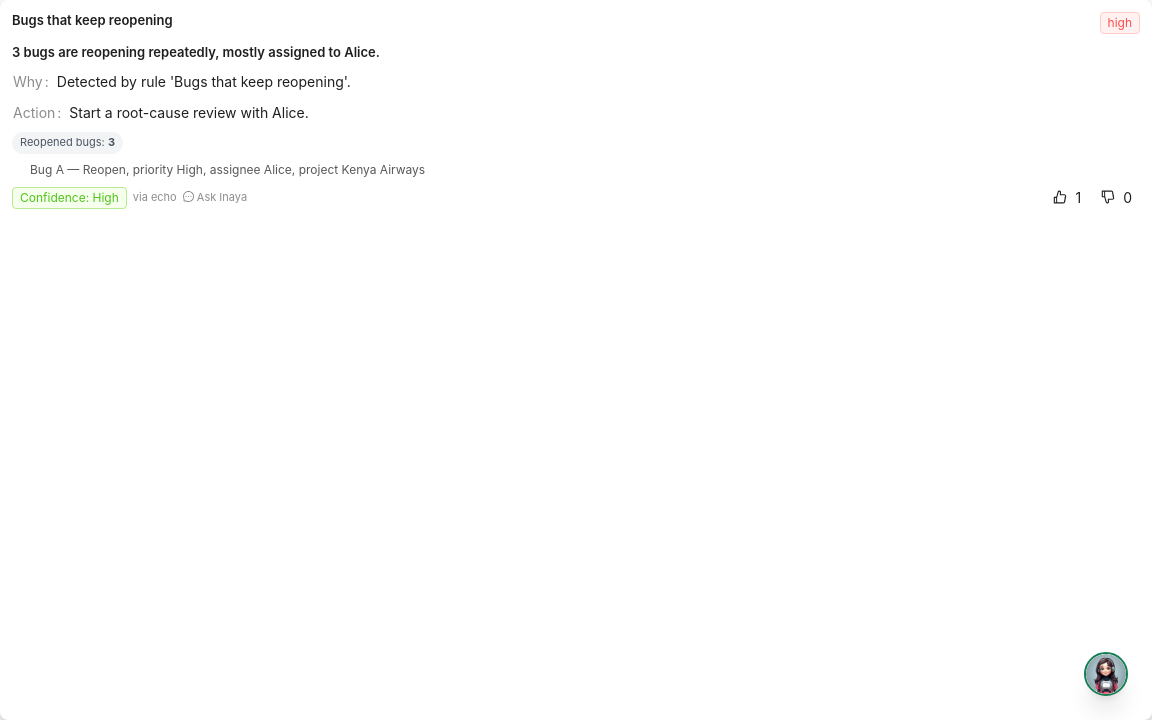
Test: clicking the card opens Inaya pre-loaded with the finding, not a static panel
This screenshot has width=1152, height=720.
Click the button with aria-label "Ask Inaya about: Bugs that keep reopening". click: x=576, y=360
box: [0, 0, 1151, 719]
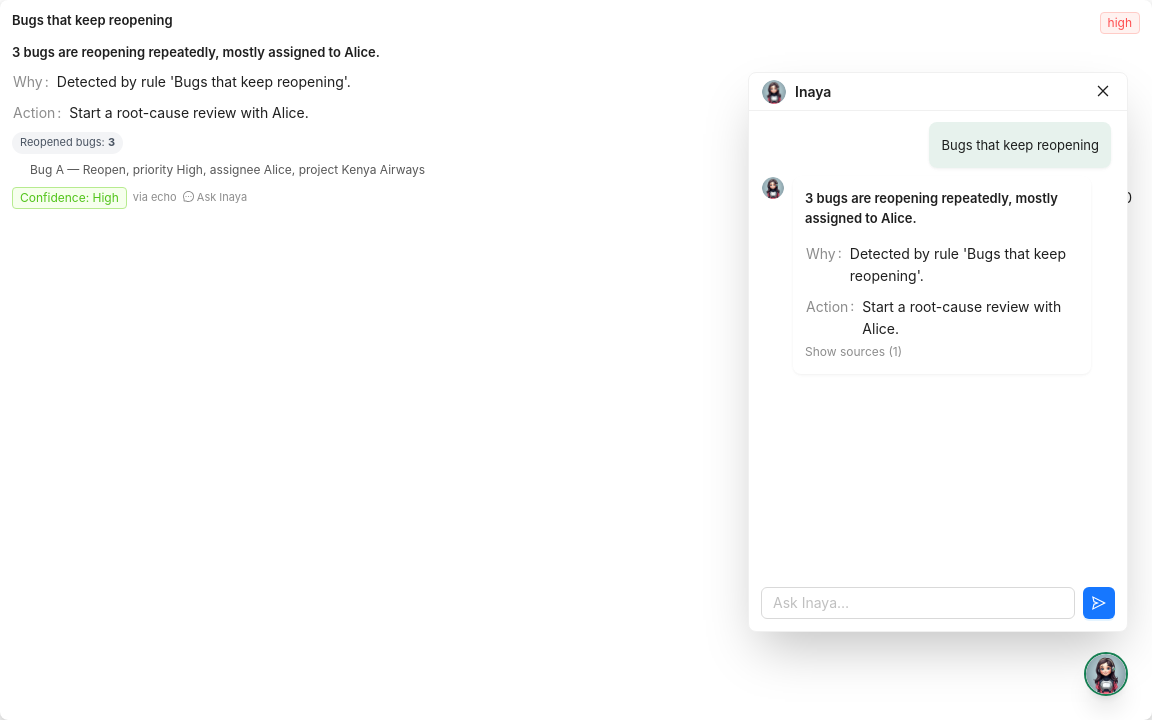
Expected: the text "Inaya" is shown, [795, 80, 831, 102]
Expected: the text "Bugs that keep reopening" is shown 2 times, [12, 12, 173, 28]; [942, 137, 1099, 153]
Expected: the text "3 bugs are reopening repeatedly, mostly assigned to Alice." is shown 2 times, [12, 44, 380, 60]; [805, 190, 1058, 226]
